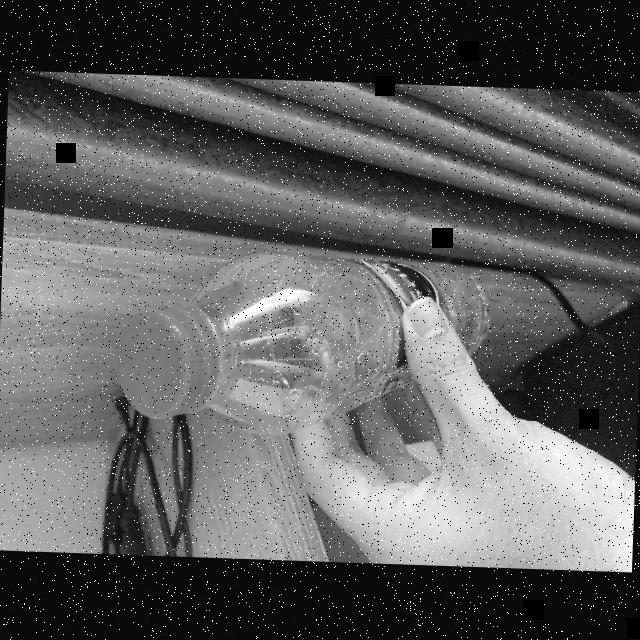plastic_bottle: (108, 239, 497, 440)
plastic_bottle_cap: (112, 296, 223, 419)
